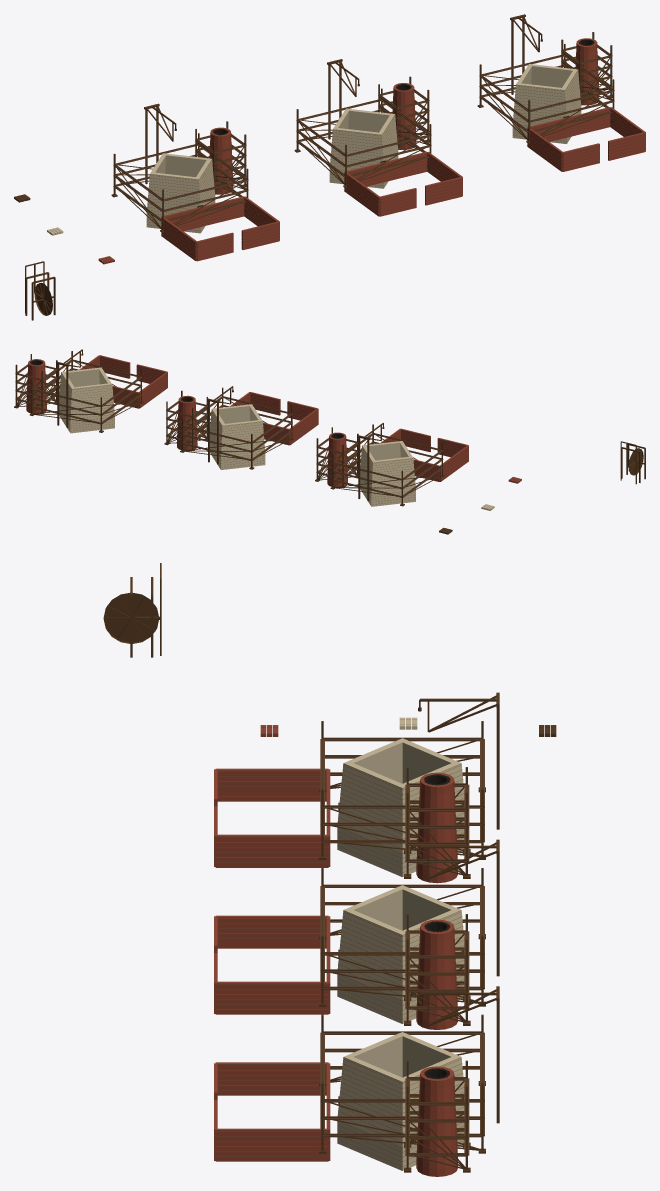
3 renders of one model, top to bottom at view 1: azimuth 30°, elevation 25°; view 2: azimuth 150°, elevation 25°; view 3: azimuth 270°, elevation 25°, orthographic. The views are drawn at different scales.
Visible parts, largest first — view 1: furnaceA_K2; view 2: furnaceA_K2; view 3: furnaceA_K2.
Boxes of the visible parts, <box> form: furnaceA_K2: <box>14,14,645,320</box>; furnaceA_K2: <box>14,349,645,534</box>; furnaceA_K2: <box>103,563,556,1176</box>.
Bounding box in the file's own units: 145 × 19.2 × 52.11.
